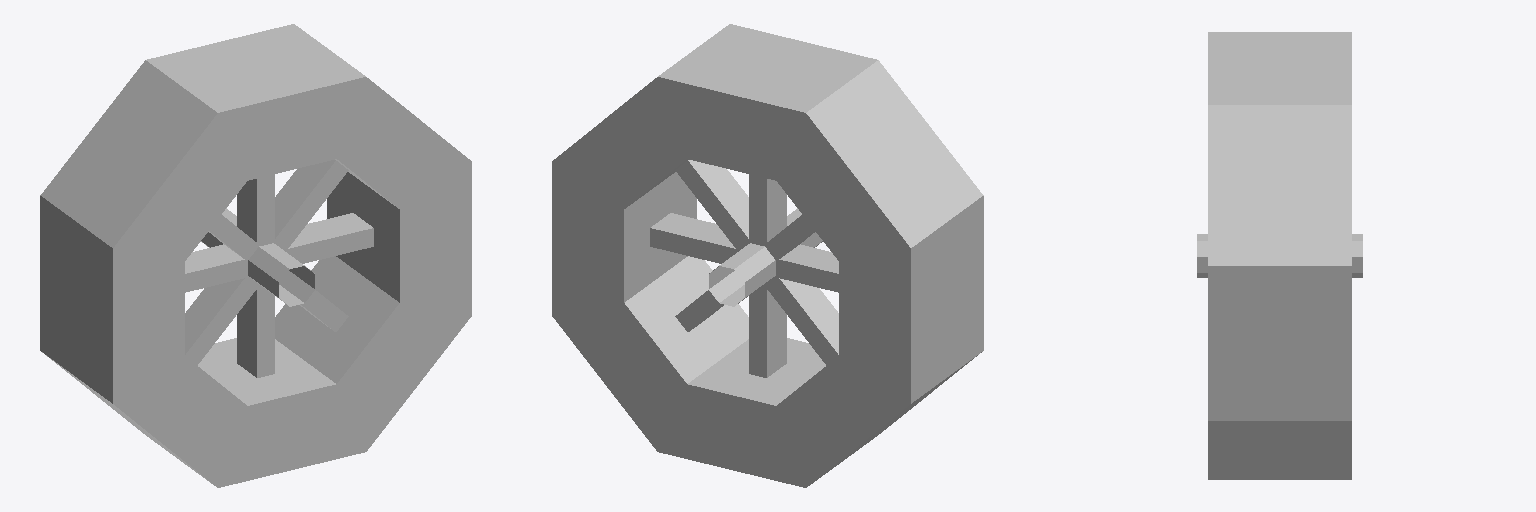
File: flywheel_annulus_75.obj
3 views of the same model, side by side, from view 1: azimuth 30°, elevation 25°; view 2: azimuth 150°, elevation 25°; view 3: azimuth 270°, elevation 25° (orthographic).
Visible parts, largest first — view 1: Flywheel_Cylinder, Shaft; view 2: Flywheel_Cylinder, Shaft; view 3: Flywheel_Cylinder, Shaft.
Boxes of the visible parts, <box> form: Flywheel_Cylinder: <box>40,24,471,487</box>; Shaft: <box>201,208,314,306</box>; Flywheel_Cylinder: <box>552,24,983,487</box>; Shaft: <box>709,208,822,306</box>; Flywheel_Cylinder: <box>1208,32,1351,479</box>; Shaft: <box>1197,234,1362,277</box>.
Bounding box in the file's own units: 2.5 × 2.5 × 1.